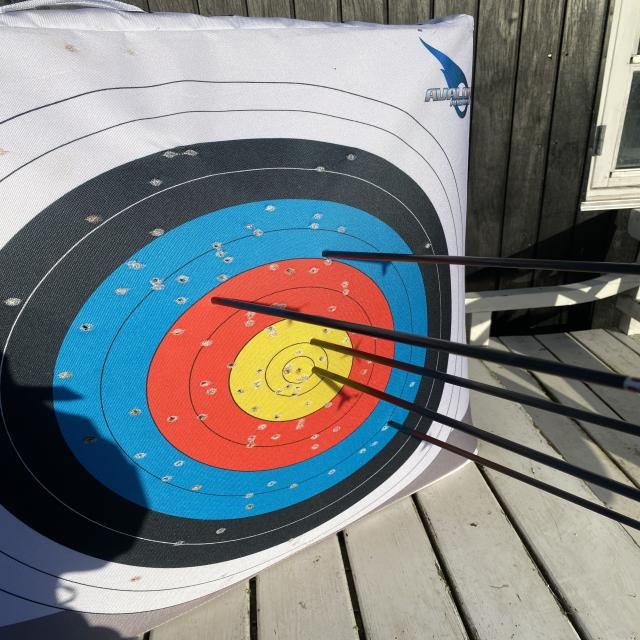Arrow_Blue: (313, 238, 342, 272), (379, 411, 403, 440)
Arrow_Red: (198, 287, 230, 321)
Arrow_Yellow: (306, 358, 338, 390), (305, 333, 336, 354)
